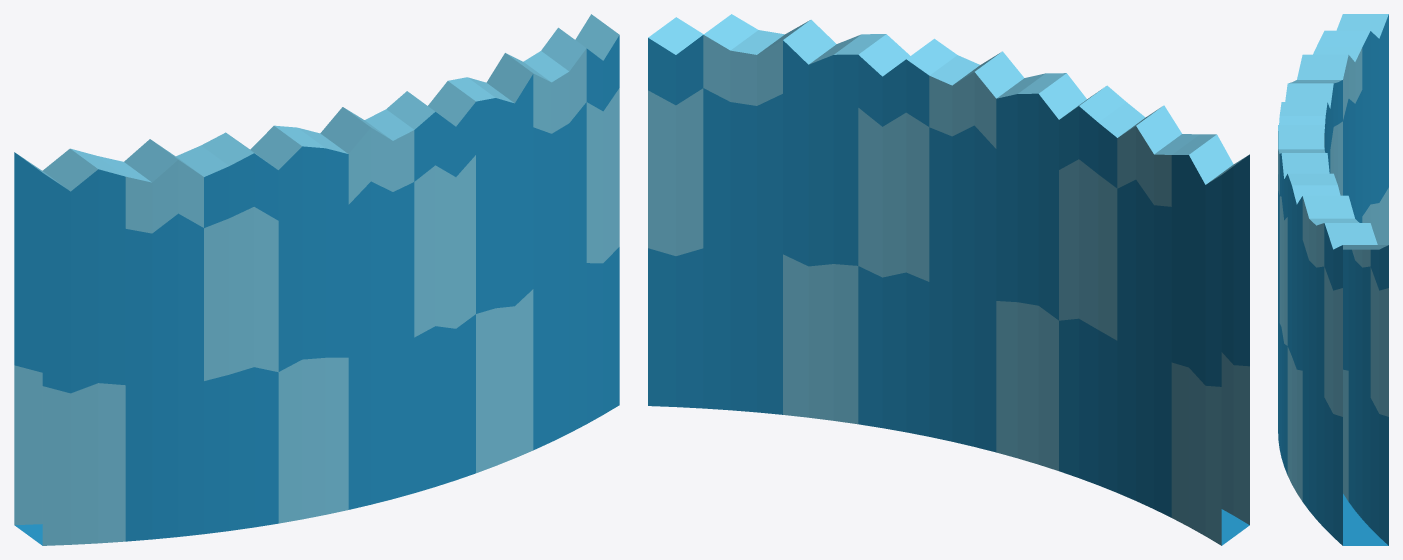
File: GlooWall.obj
3 views of the same model, side by side, from view 1: azimuth 30°, elevation 25°; view 2: azimuth 150°, elevation 25°; view 3: azimuth 270°, elevation 25° (orthographic). The views are drawn at different scales.
Size of the model in its own units: 3.76 by 2.35 by 0.77.
